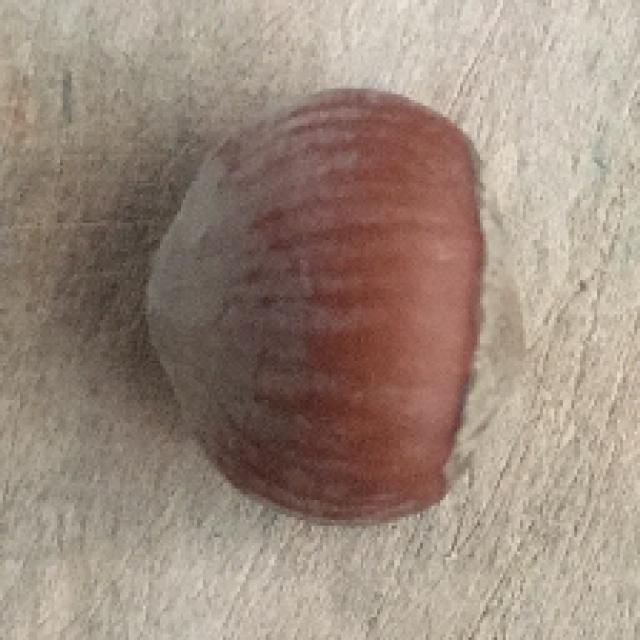qualityHazelnut: (136, 82, 534, 538)
